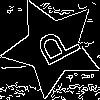P: (27, 22, 83, 73)
